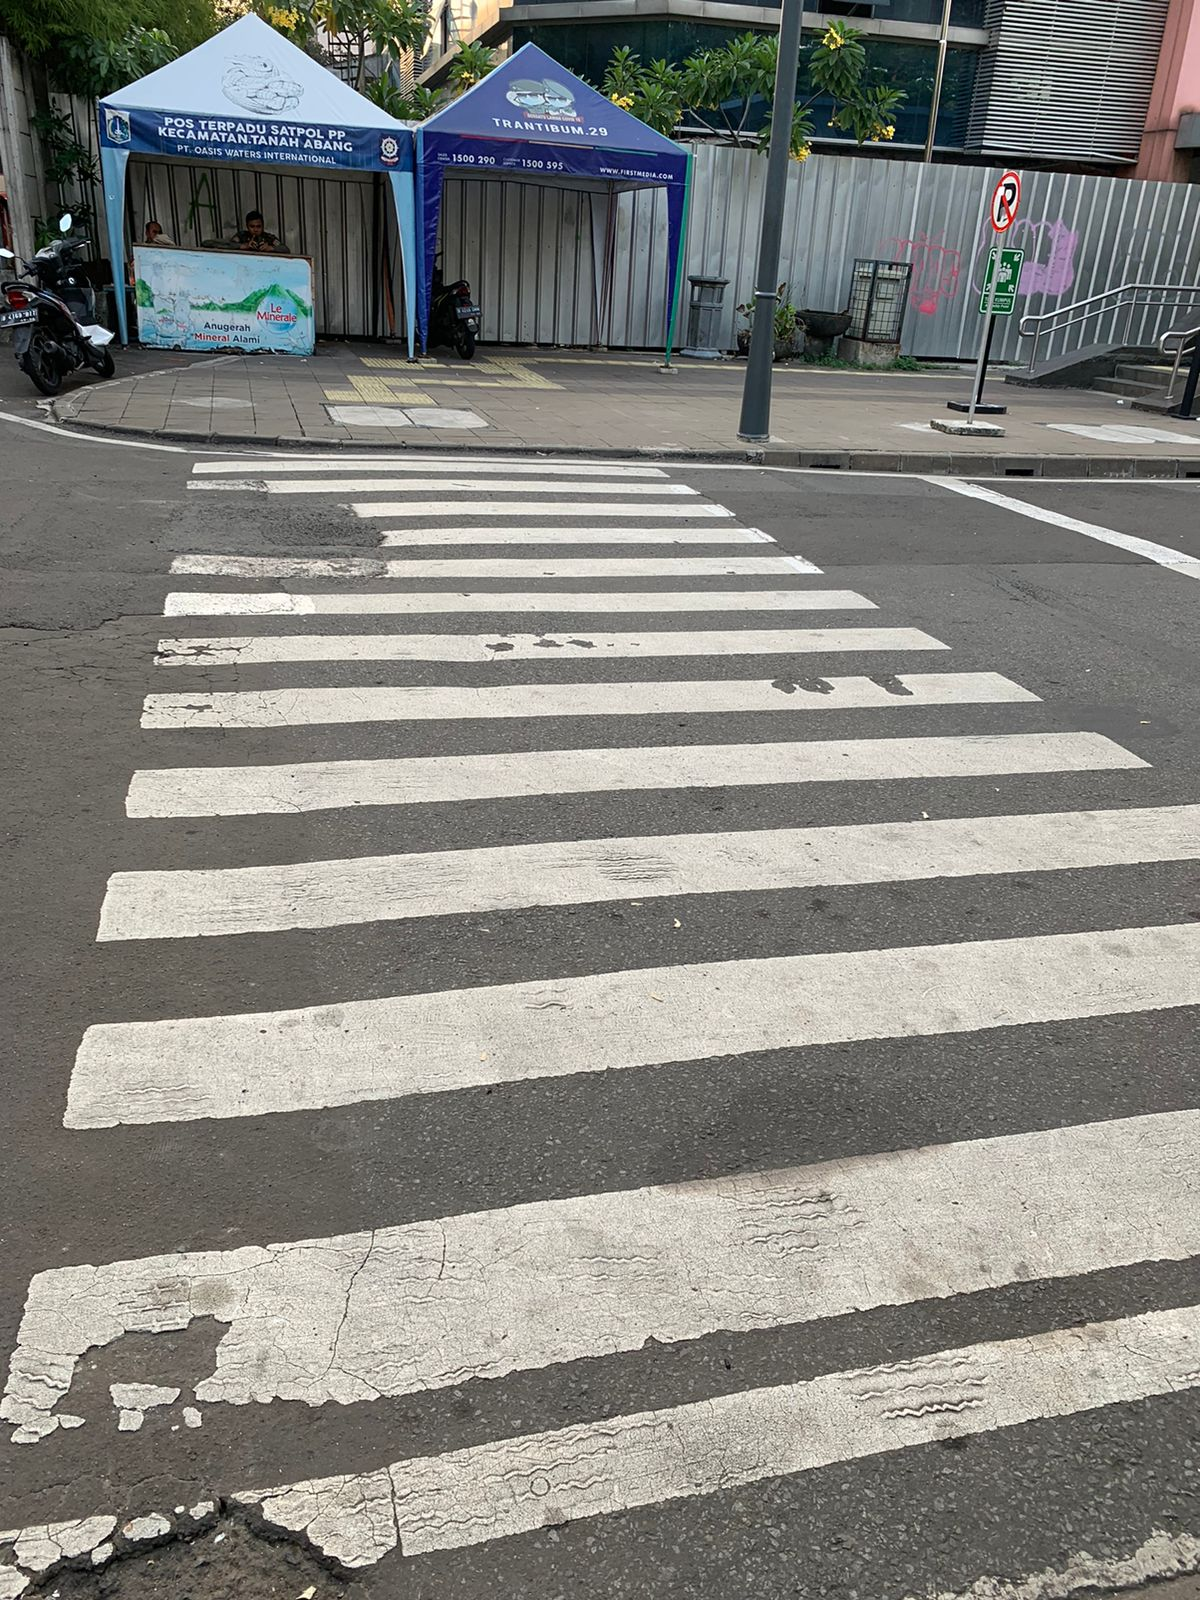zebracross: (169, 455, 973, 1451)
